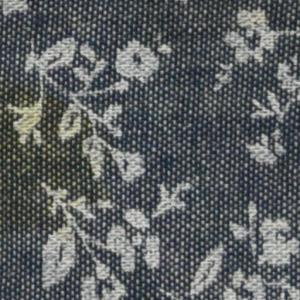Oil Stain: (1, 81, 111, 238)
